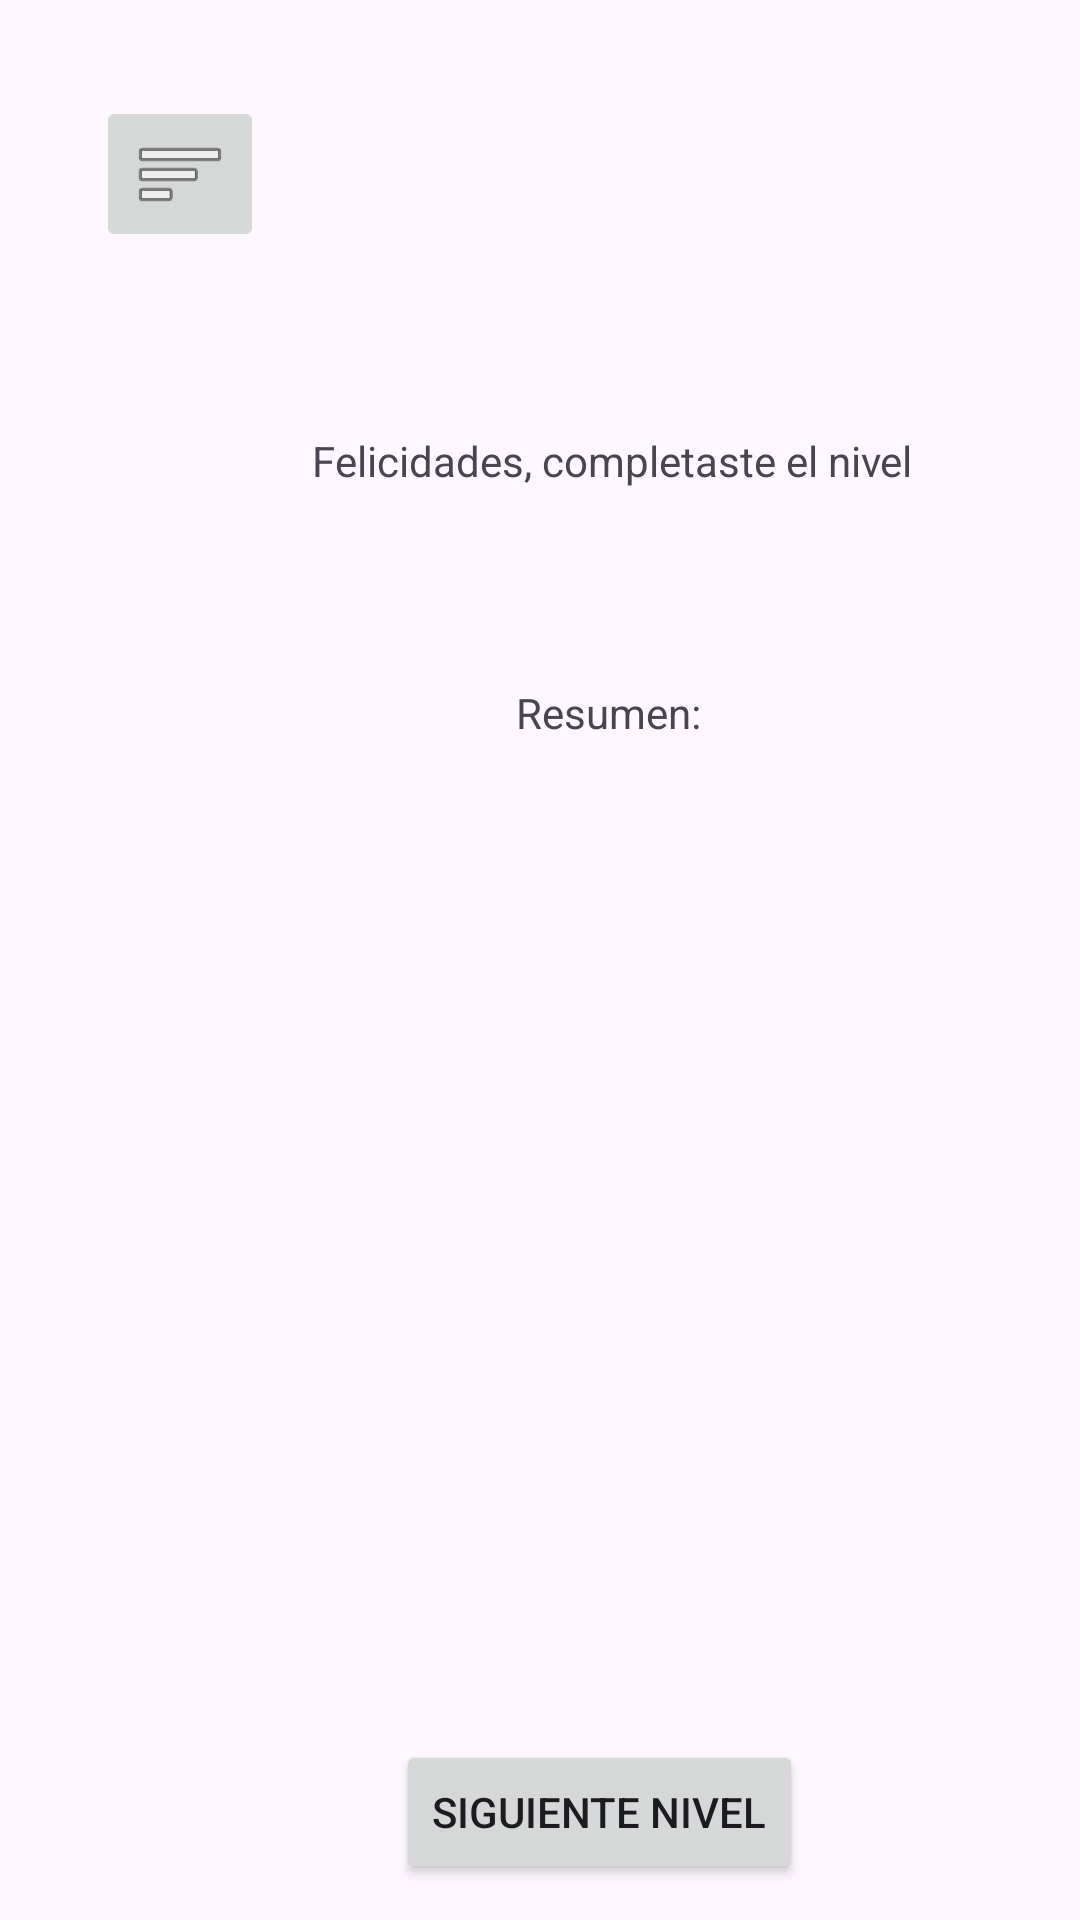

Named icons in this screenshot (1080w x 1920h) and their bounding boxes, (x1, y1, x2, y2):
sort by size: (108, 114, 252, 234)
